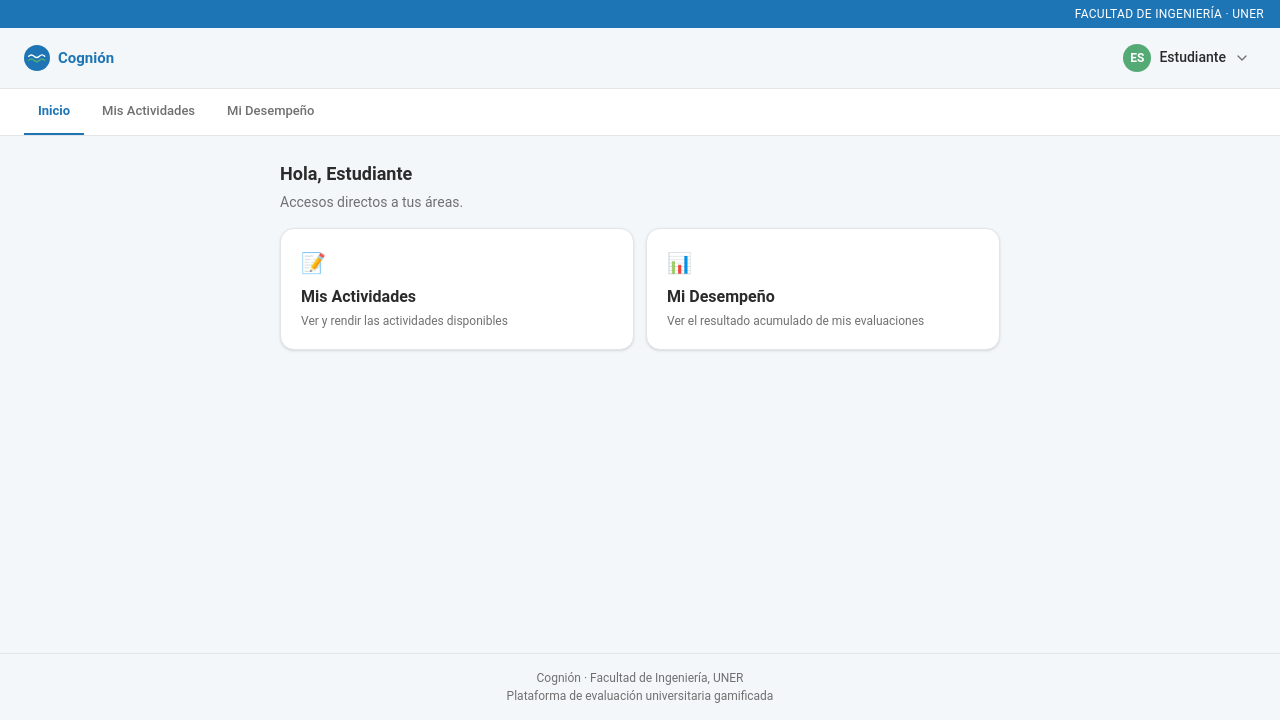
Test case: router (integración) › Inicio (US-ADJ-28) › Estudiante navega de la Home a Mis Actividades por clic en la card
The image size is (1280, 720).
expect the heading "Hola, Estudiante" is shown: met, box top-left (280, 162), bottom-right (412, 184)
// "Mis Actividades" aparece dos veces: en el ítem del AppNav y en la card de la Home.
Click the text "Mis Actividades": (359, 296) top-left (301, 286), bottom-right (416, 306)
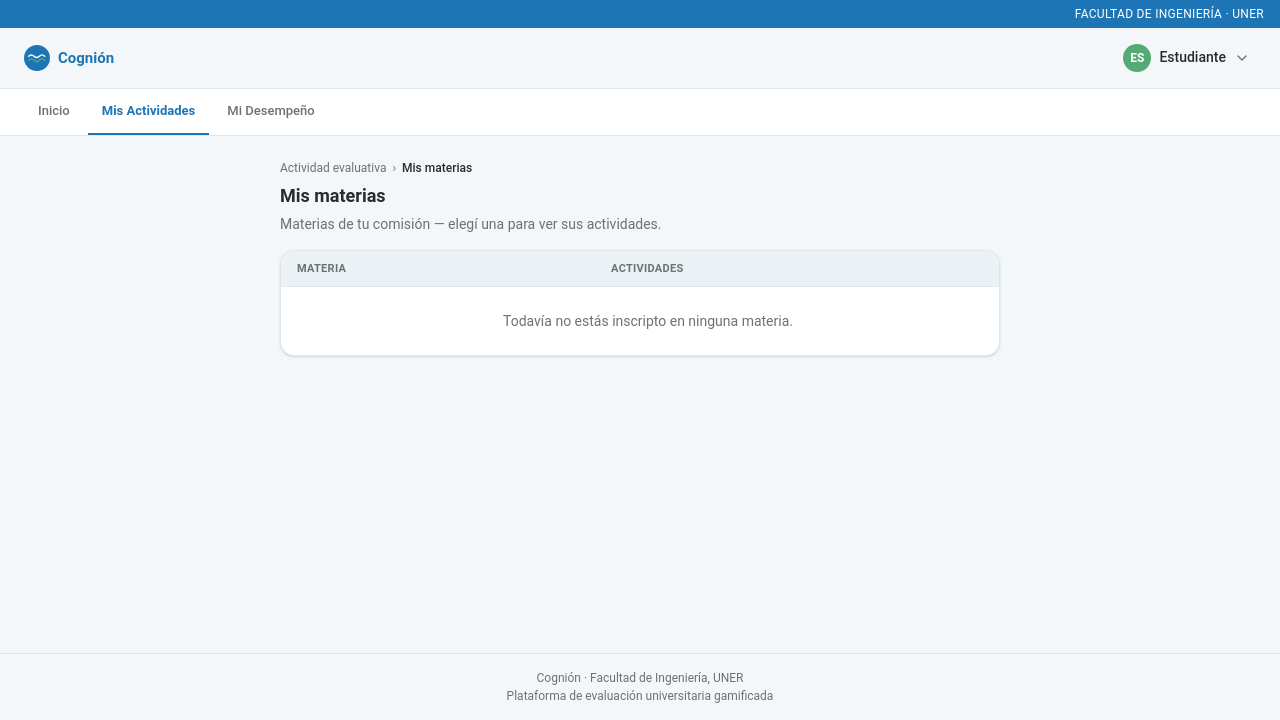
expect the heading "Mis materias" is shown: met, box top-left (280, 184), bottom-right (386, 206)
